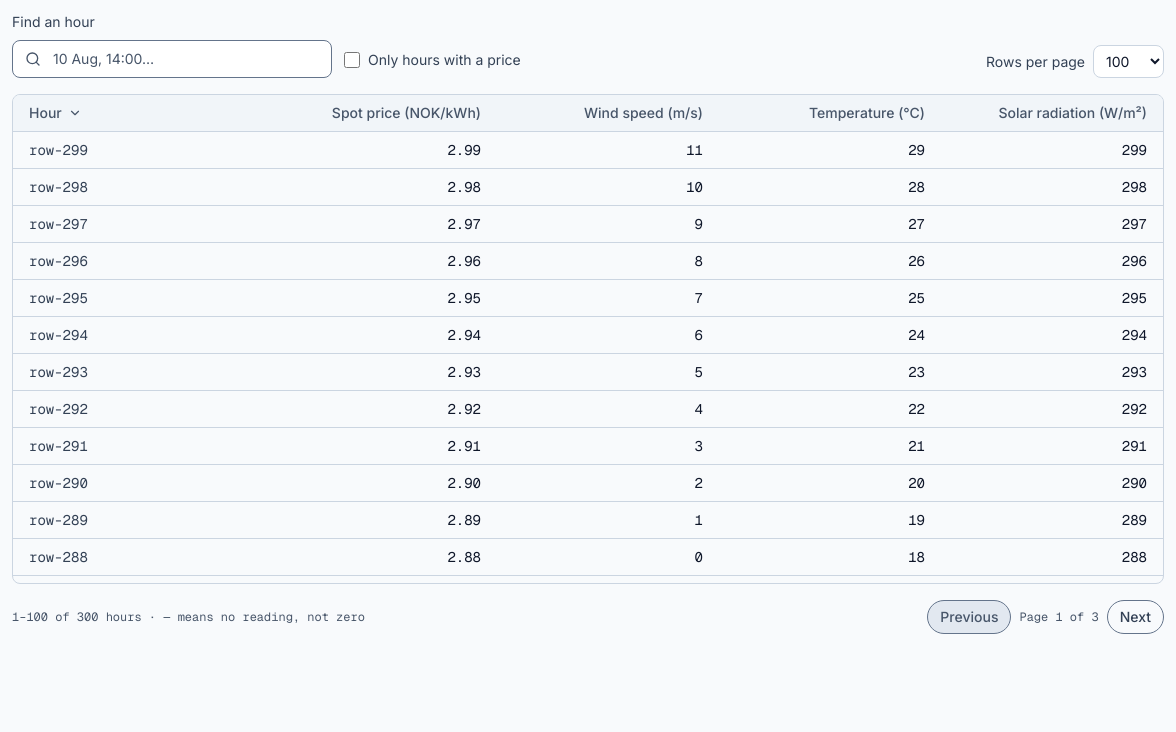
it: HoursTable › filters over every row, not just the page
In the search field labelled "Find an hour": coordinates (186, 59) 53,49 -> 319,69, type "row-250"
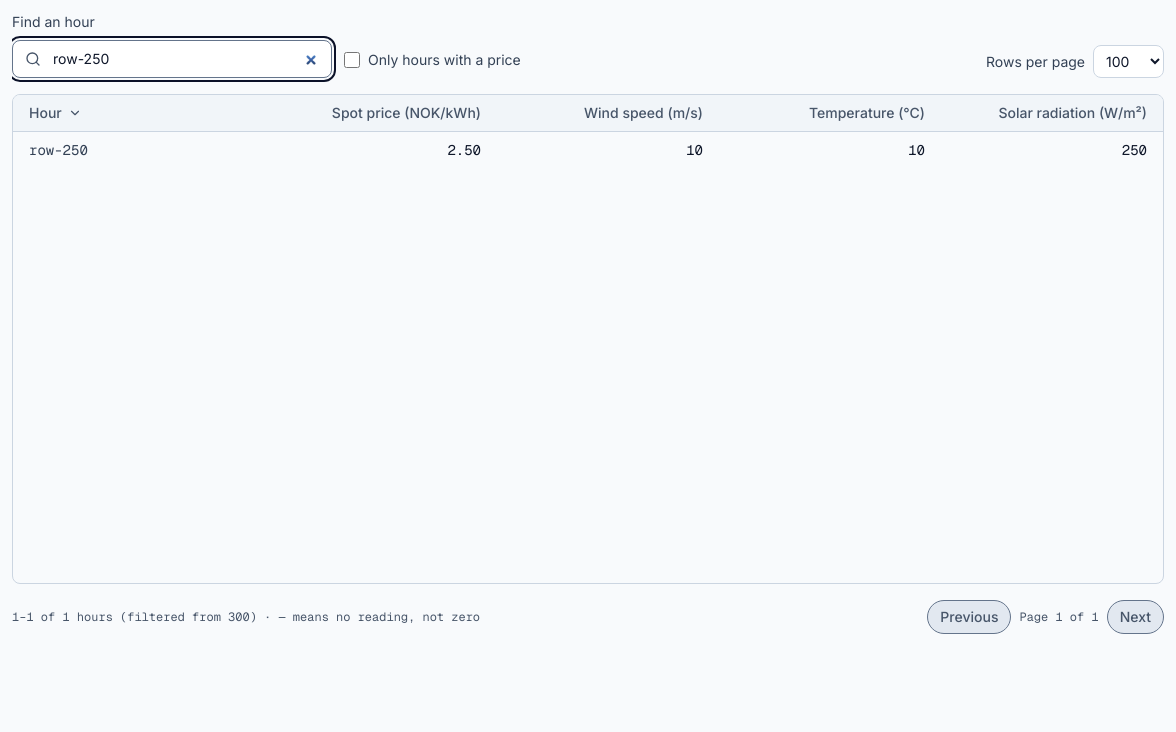
Check: the text "1–1 of 1 hours" is shown, box 12,609 -> 480,625
Check: the column heading "row-250" is shown, box 13,132 -> 275,168
